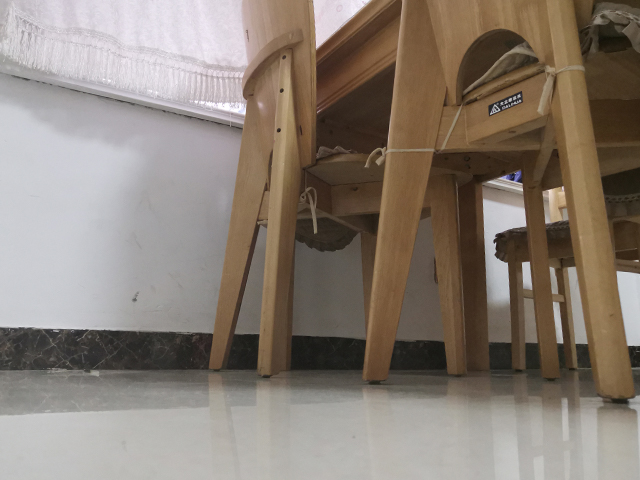stool: (360, 2, 640, 405), (206, 1, 471, 379), (494, 170, 640, 383)
